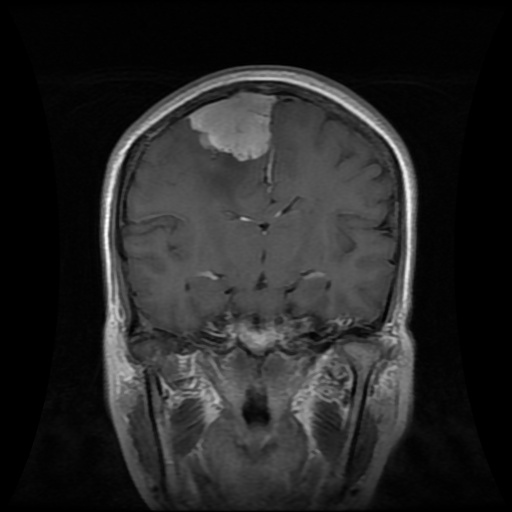meningioma: (188, 93, 277, 162)
